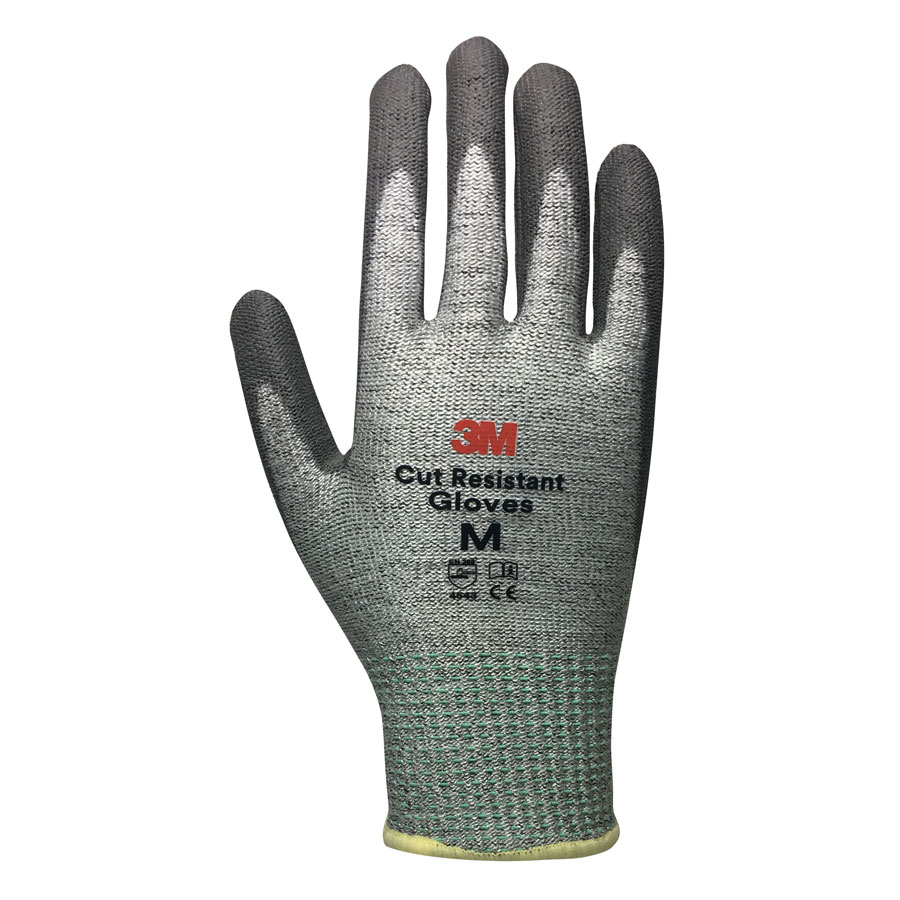3M: (447, 409, 523, 461)
